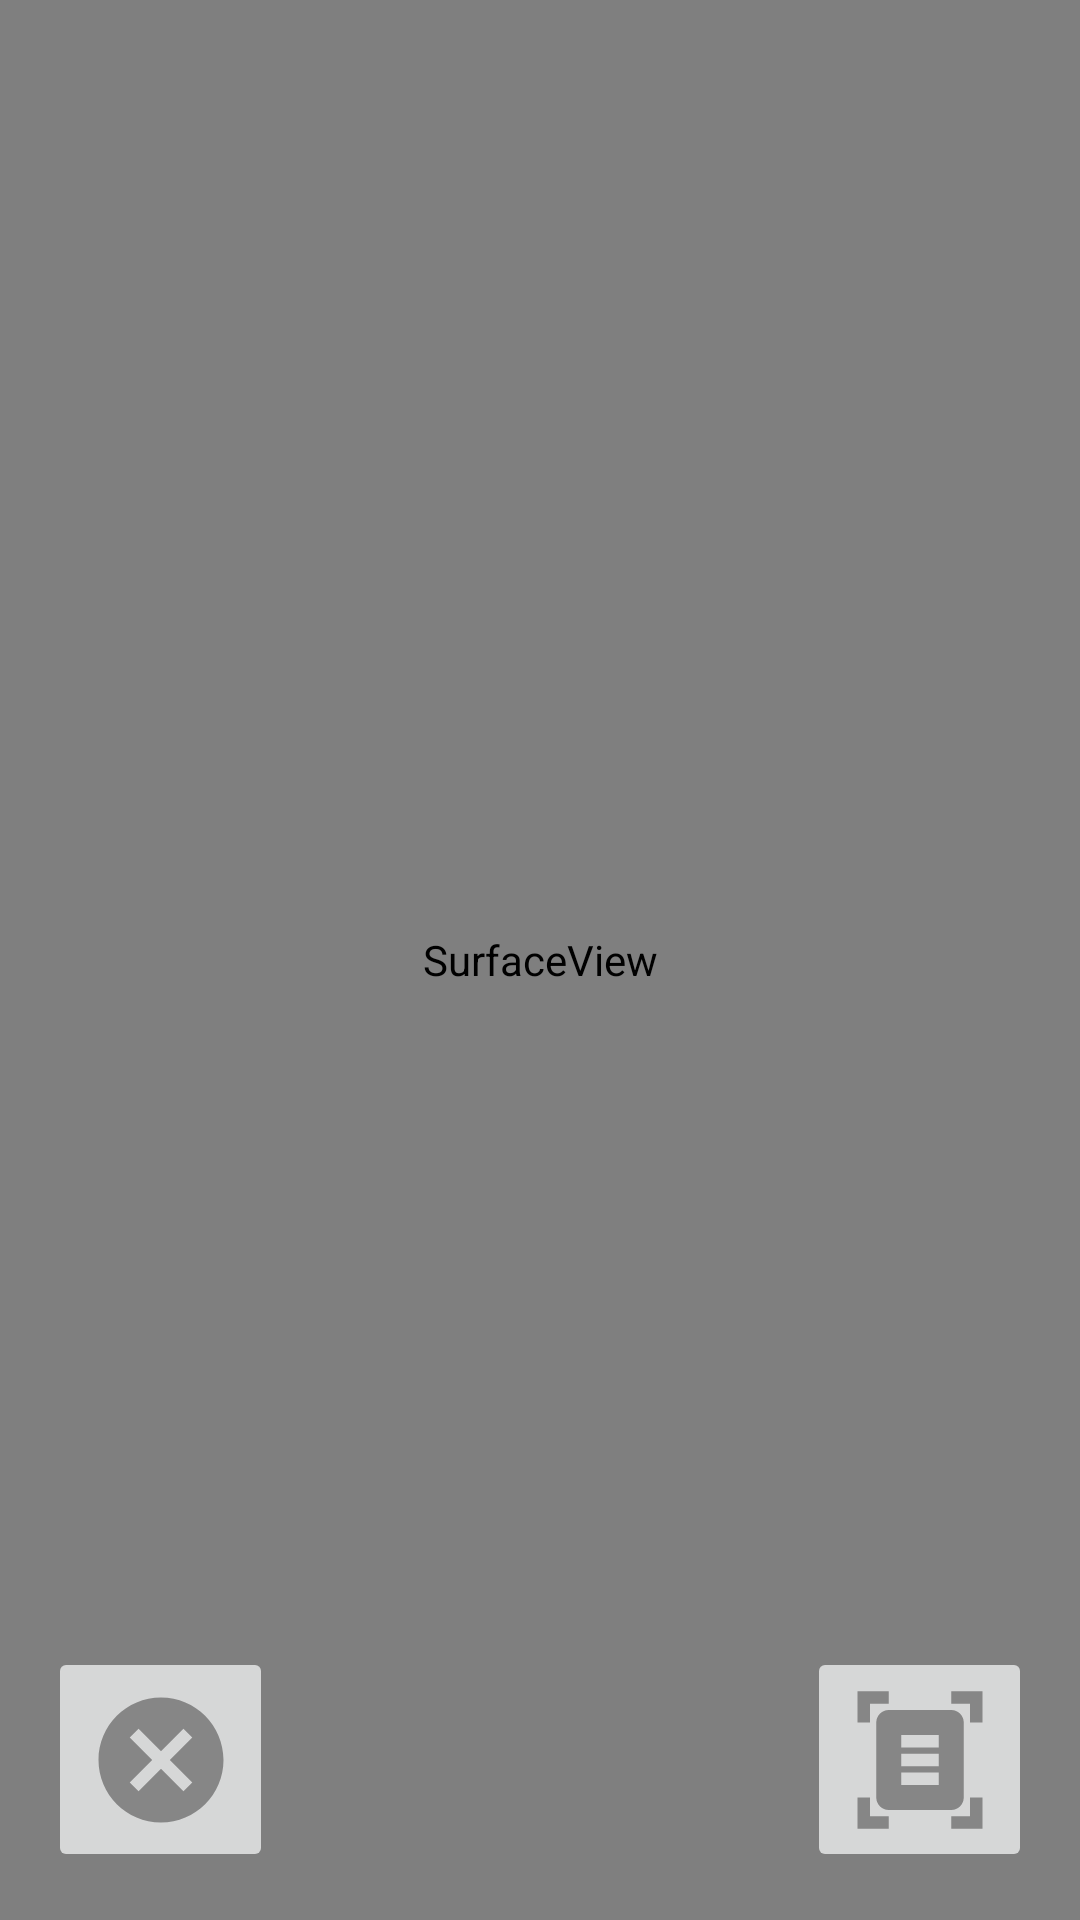

Screen size 1080x1920. Icon name, then its center in pixels as (x=x, y=y):
cancel: (x=160, y=1759)
document scanner: (x=919, y=1759)
